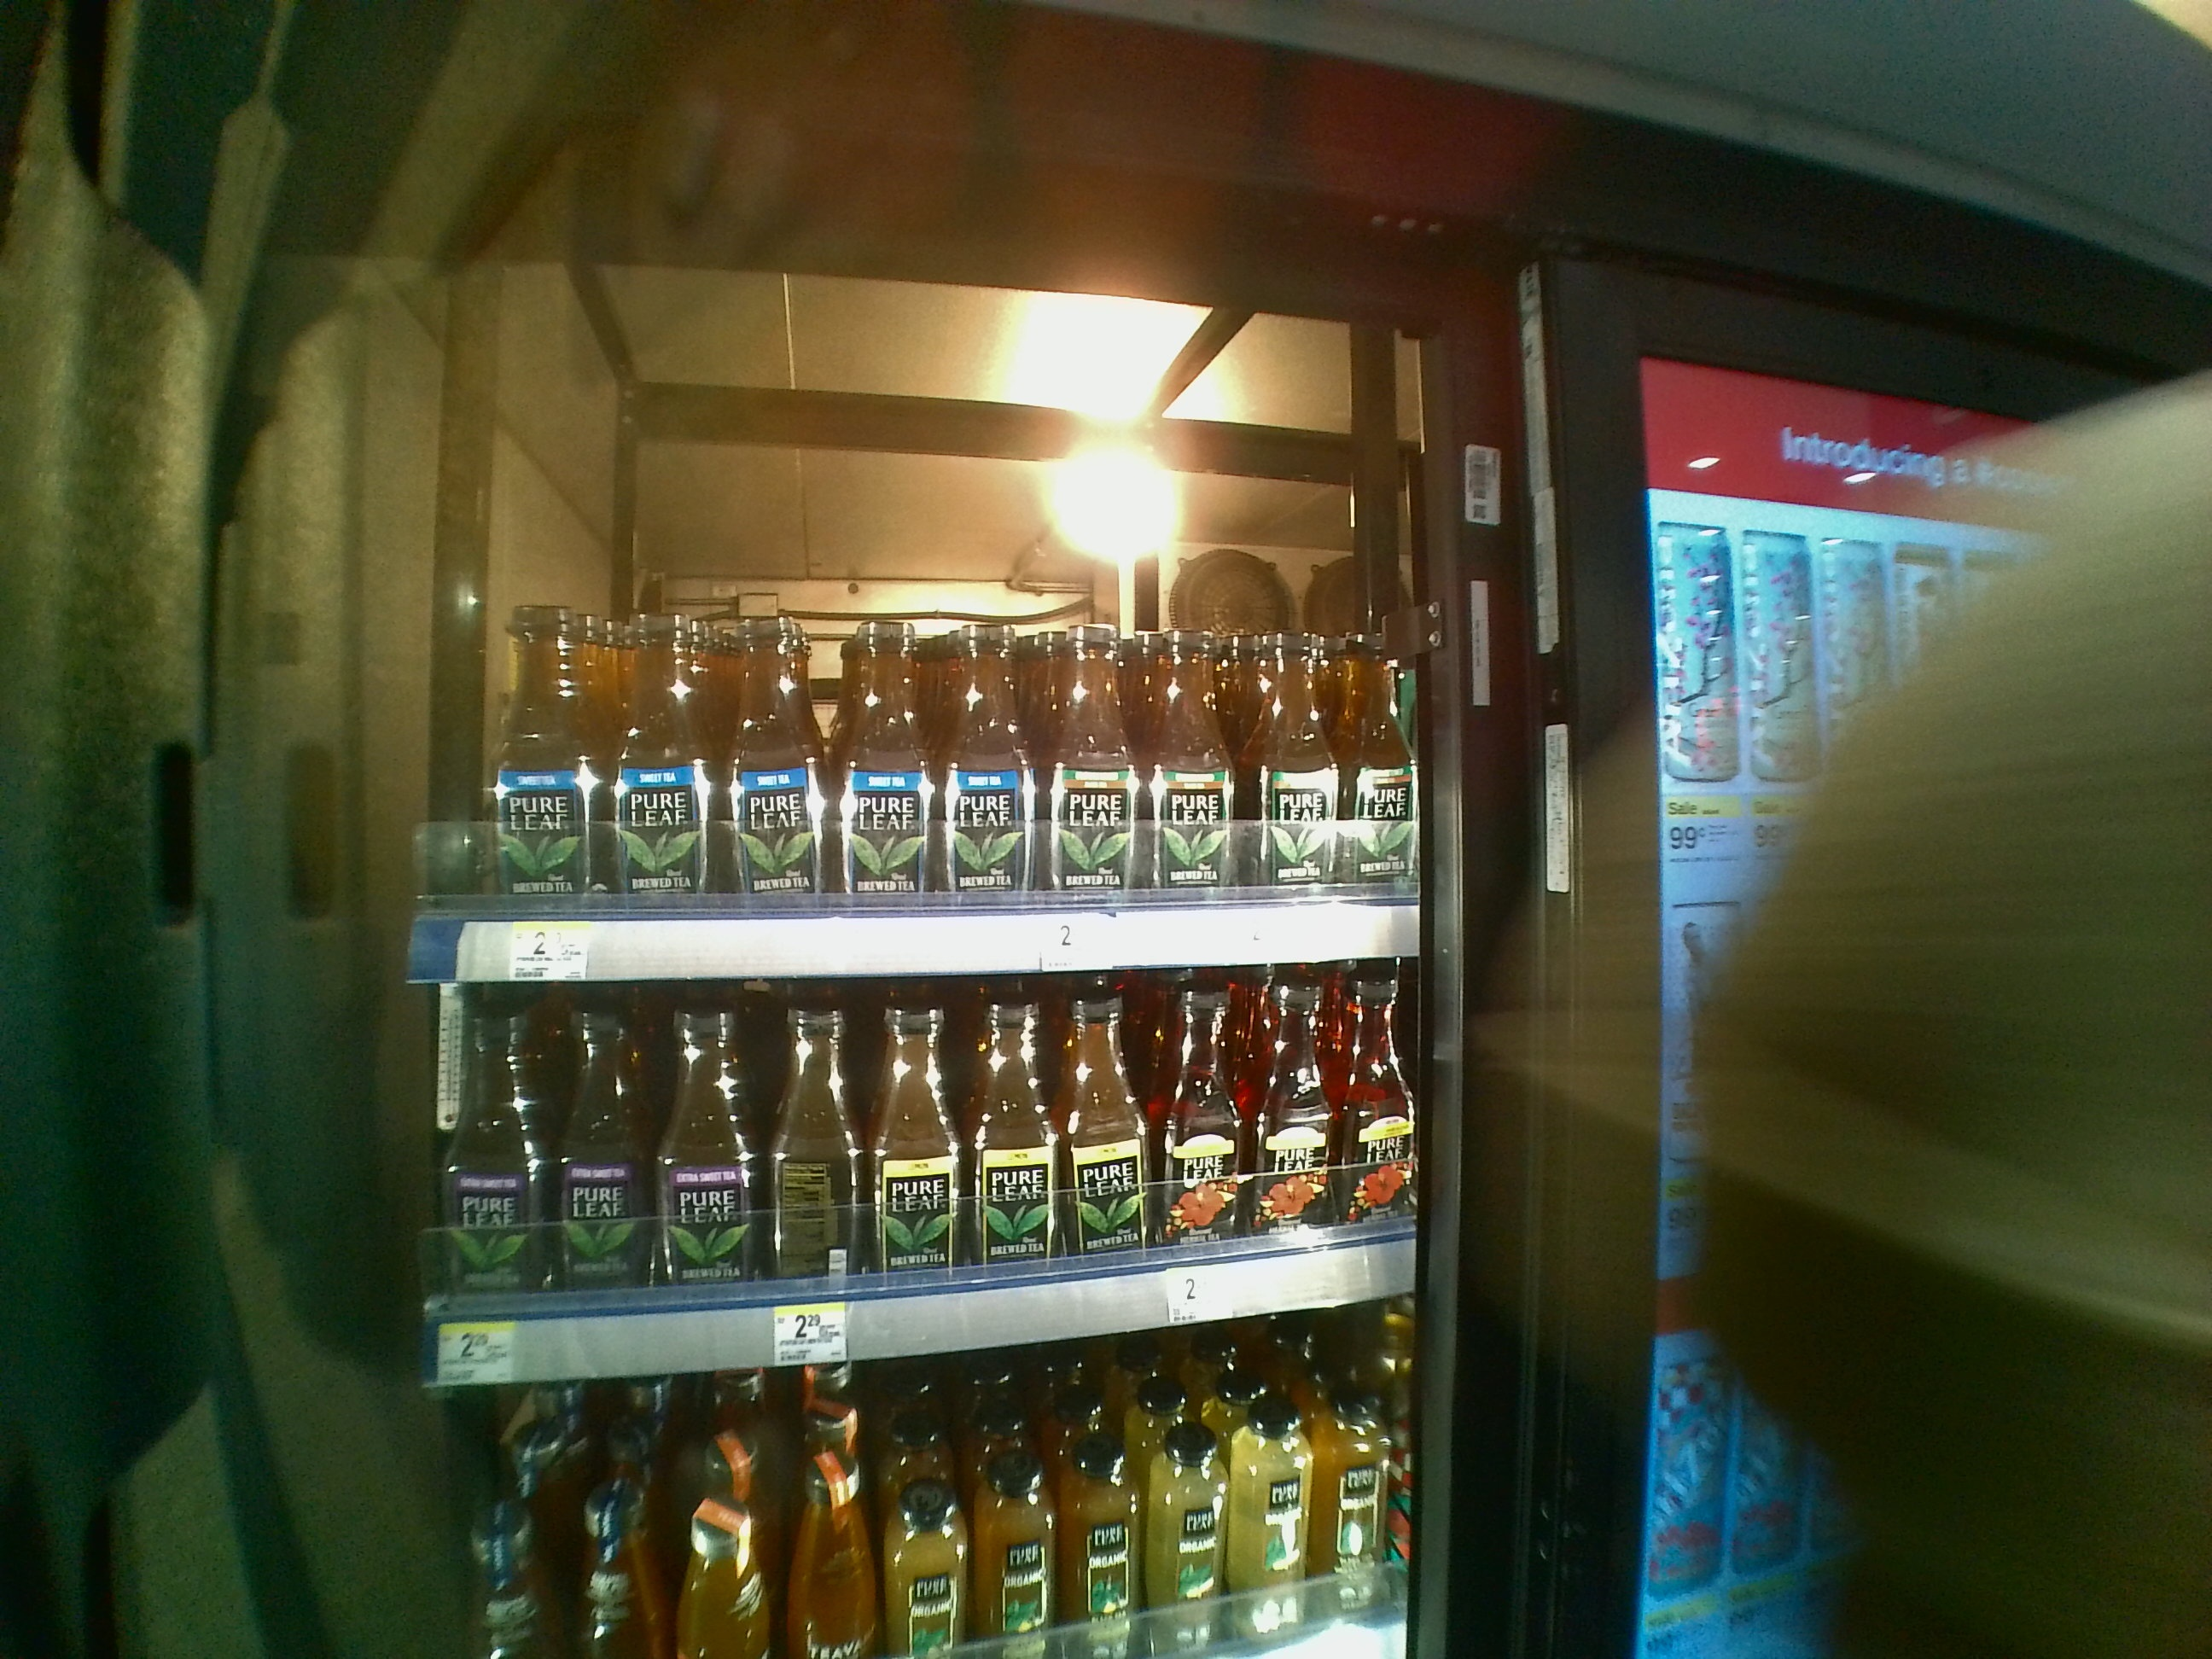shelf: (404, 335, 1420, 983), (401, 988, 1425, 1396)
